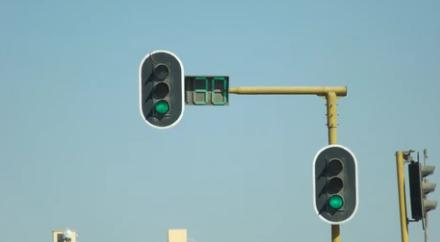green_light: (313, 144, 358, 224), (139, 50, 184, 129)
